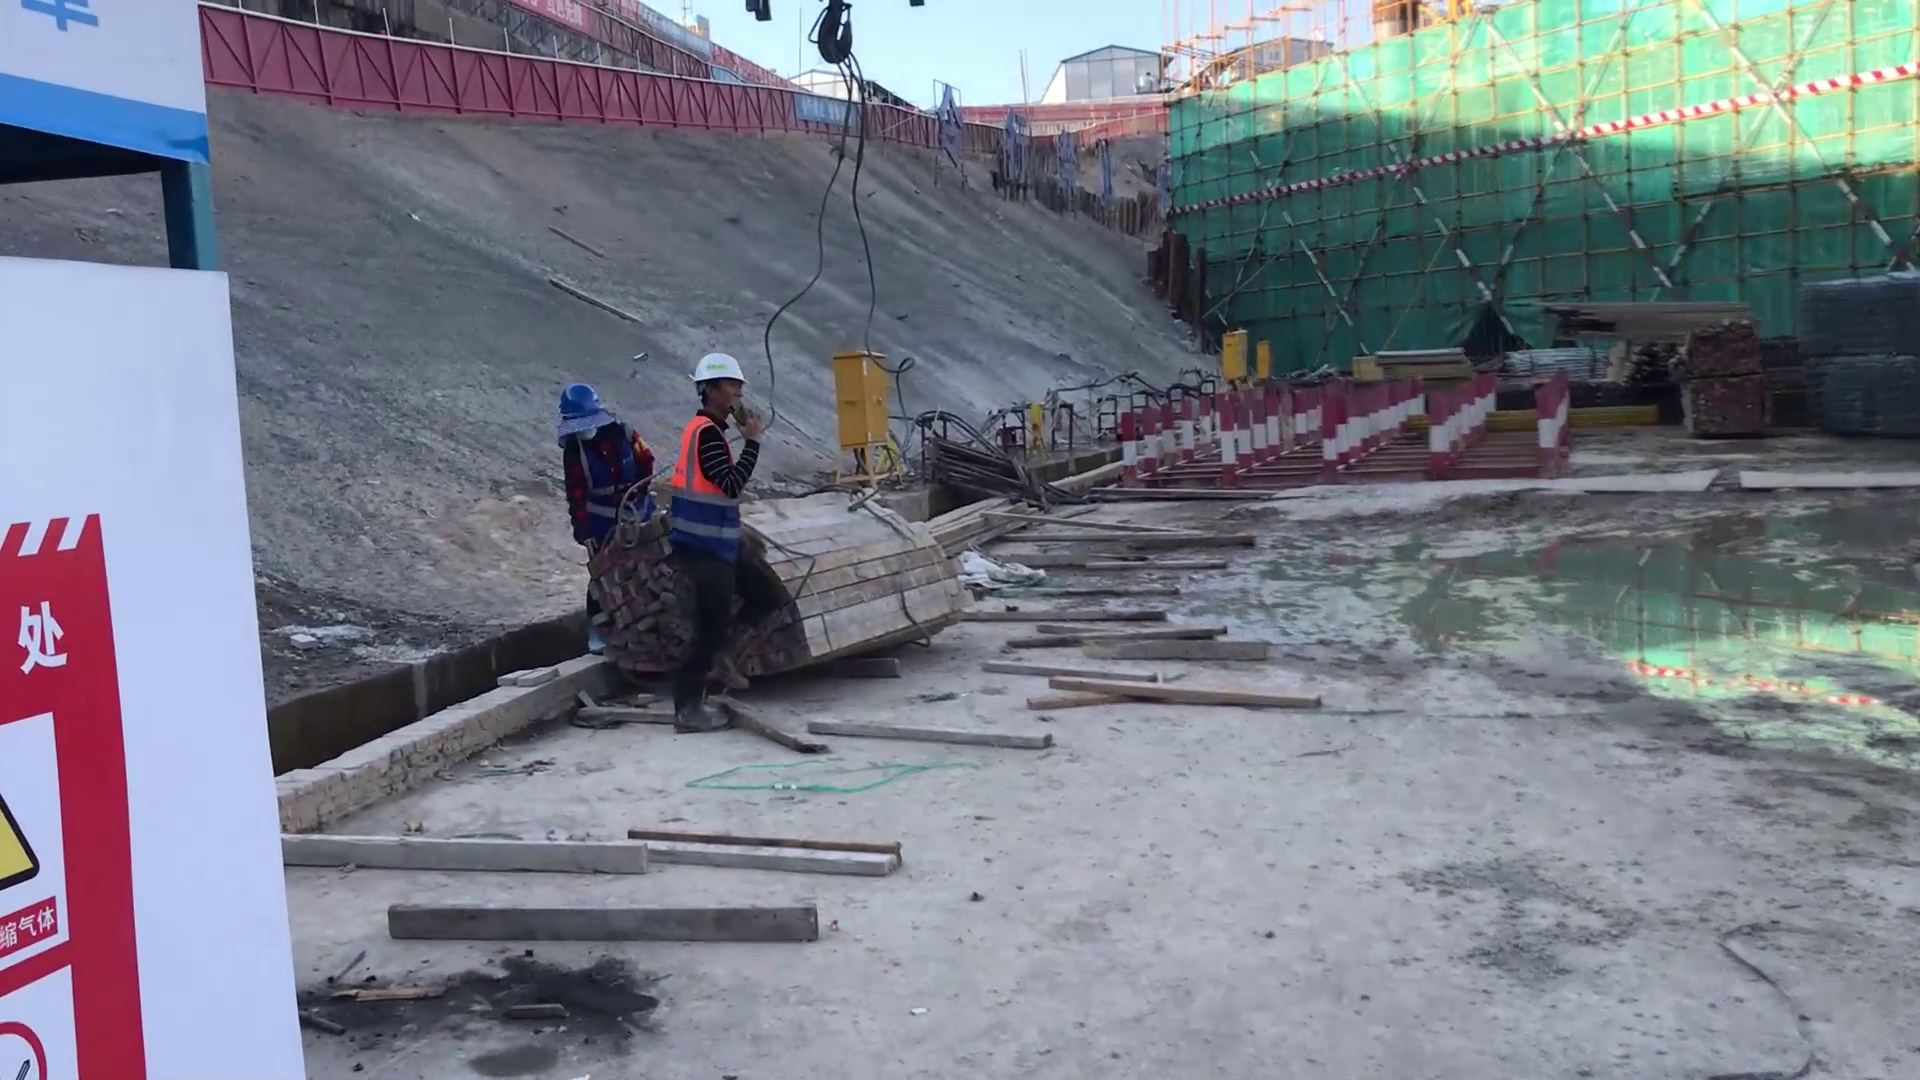ebox: (830, 344, 889, 452), (1215, 325, 1254, 376), (1254, 336, 1273, 376)
fence: (200, 9, 607, 130), (603, 68, 785, 127)
helmet: (661, 343, 749, 406), (552, 389, 617, 445)
person: (669, 350, 752, 728), (545, 377, 646, 548)
vest: (572, 433, 642, 517), (669, 411, 737, 494), (672, 418, 725, 500)
wood: (988, 429, 1301, 750), (756, 481, 978, 686), (1521, 290, 1763, 356)
